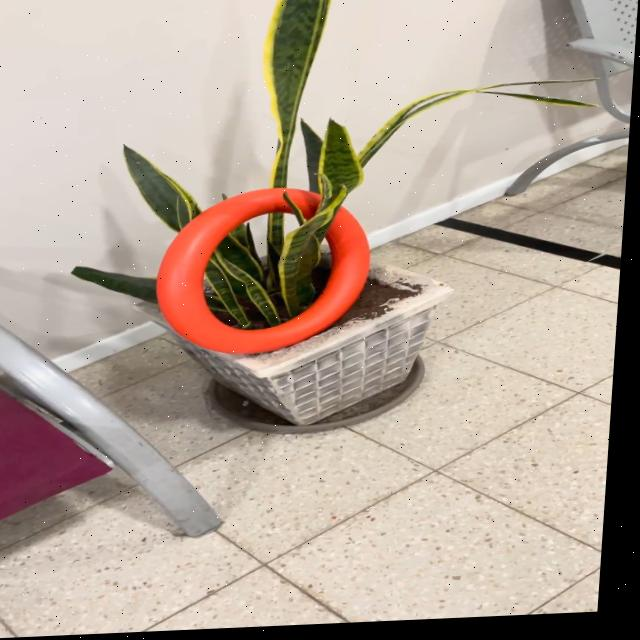note: (153, 186, 382, 362)
